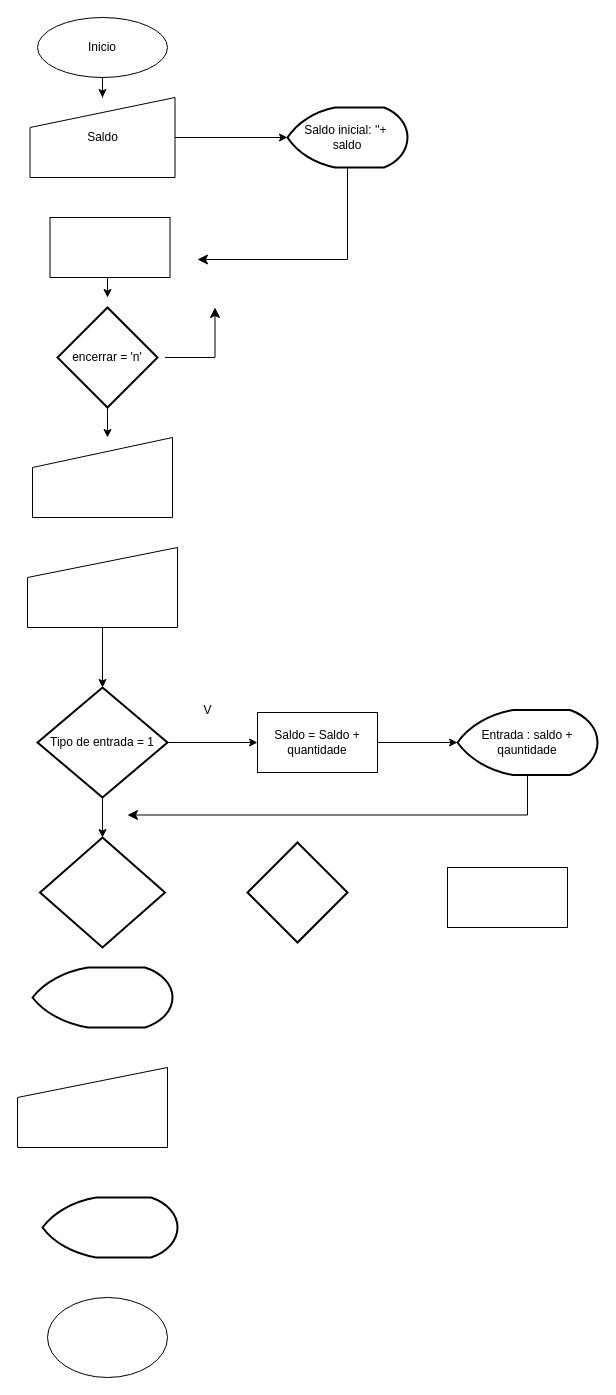
This 616x1395 diagram has some shape labels left out. Here are the shapes that lost their labels. From the top down, the centre of each, then its label:
the point at 109,247: encerrar = ´n'
the point at 102,477: Tipo de entrada
the point at 102,587: quantidade
the point at 102,892: Tipo de entrada = 2
